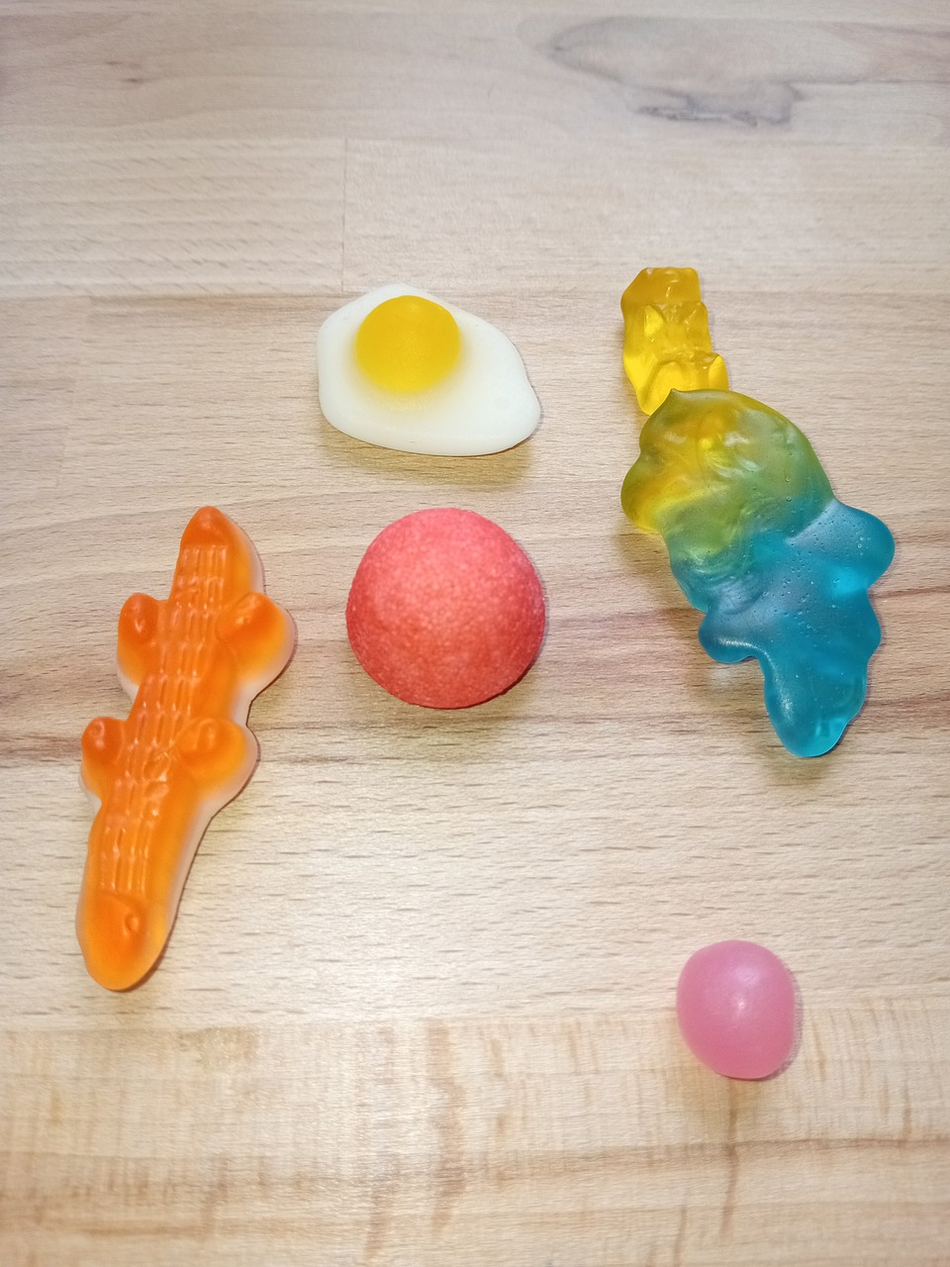crocodile_orange: (67, 497, 306, 1004)
dragibus_rose: (671, 932, 806, 1082)
oeuf_oeuf: (306, 277, 549, 464)
ourson_jaune: (614, 263, 734, 419)
schtroumpf_bleu-jaune: (615, 383, 901, 761)
tagada_fraise: (340, 500, 552, 714)
